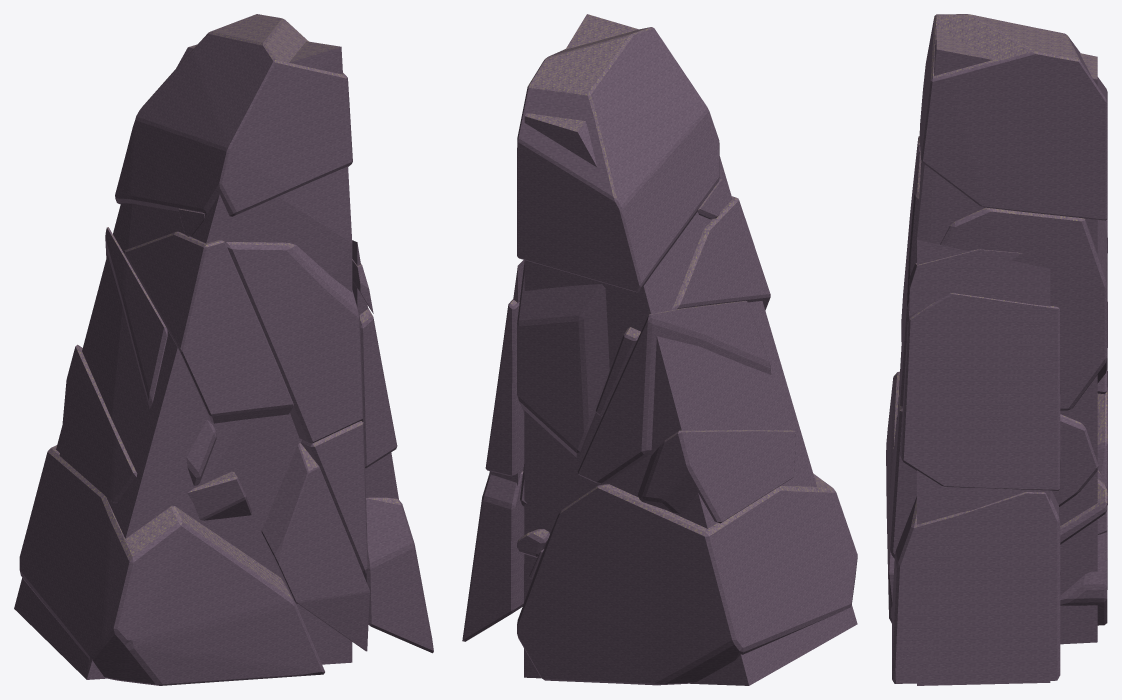
Rendered from A01_Wall_C.fbx.
3 renders of one model, left to right at view 1: azimuth 30°, elevation 25°; view 2: azimuth 150°, elevation 25°; view 3: azimuth 270°, elevation 25°, orthographic.
Parts seen in each view (by area): view 1: A01C_slab0_0, A01C_core0, A01C_slab0_12, A01C_slab0_9, A01C_slab0_10, A01C_slab0_3, A01C_wedge1_0, A01C_slab0_7, A01C_slab0_8, A01C_slab0_6, A01C_wedge1_1, A01C_slab0_1 (+1 smaller); view 2: A01C_slab0_0, A01C_slab0_12, A01C_core0, A01C_slab0_10, A01C_slab0_8, A01C_slab0_7, A01C_slab0_9, A01C_wedge1_0, A01C_wedge1_1, A01C_slab0_5; view 3: A01C_slab0_12, A01C_wedge1_0, A01C_wedge1_1, A01C_slab0_10, A01C_core0, A01C_core1, A01C_slab0_6, A01C_slab0_0, A01C_wedge1_2, A01C_slab0_5, A01C_slab0_3, A01C_slab0_9.
Boxes of the visible parts, left/top/right/bottom form: A01C_slab0_0: left=19, top=445, right=324, bottom=685; A01C_core0: left=14, top=41, right=352, bottom=679; A01C_slab0_12: left=115, top=14, right=352, bottom=216; A01C_slab0_9: left=123, top=231, right=293, bottom=423; A01C_slab0_10: left=225, top=242, right=363, bottom=443; A01C_slab0_3: left=261, top=443, right=370, bottom=651; A01C_wedge1_0: left=364, top=497, right=433, bottom=653; A01C_slab0_7: left=59, top=344, right=137, bottom=503; A01C_slab0_8: left=105, top=227, right=216, bottom=485; A01C_slab0_6: left=301, top=421, right=368, bottom=576; A01C_wedge1_1: left=359, top=308, right=397, bottom=468; A01C_slab0_1: left=187, top=471, right=251, bottom=520; A01C_slab0_0: left=517, top=473, right=857, bottom=685; A01C_slab0_12: left=517, top=27, right=719, bottom=292; A01C_core0: left=524, top=14, right=857, bottom=685; A01C_slab0_10: left=517, top=262, right=609, bottom=457; A01C_slab0_8: left=578, top=300, right=771, bottom=483; A01C_slab0_7: left=638, top=430, right=795, bottom=523; A01C_slab0_9: left=595, top=196, right=770, bottom=416; A01C_wedge1_0: left=462, top=471, right=524, bottom=641; A01C_wedge1_1: left=485, top=299, right=524, bottom=476; A01C_slab0_5: left=517, top=529, right=549, bottom=557; A01C_slab0_12: left=919, top=14, right=1107, bottom=220; A01C_wedge1_0: left=892, top=490, right=1060, bottom=683; A01C_wedge1_1: left=900, top=293, right=1060, bottom=490; A01C_slab0_10: left=899, top=151, right=1107, bottom=410; A01C_core0: left=917, top=27, right=1097, bottom=644; A01C_core1: left=917, top=240, right=1050, bottom=685; A01C_slab0_6: left=890, top=397, right=1098, bottom=558; A01C_slab0_0: left=886, top=371, right=1107, bottom=625; A01C_wedge1_2: left=908, top=249, right=1022, bottom=316; A01C_slab0_5: left=1060, top=478, right=1107, bottom=544; A01C_slab0_3: left=888, top=417, right=897, bottom=606; A01C_slab0_9: left=901, top=136, right=1107, bottom=341.
Size of the model in its own units: 7.86 by 13.74 by 4.54.
